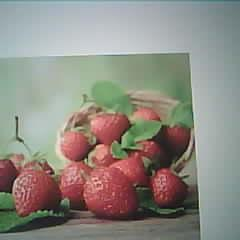straw-ripe: (84, 167, 136, 219), (12, 170, 59, 215), (153, 167, 188, 206)
